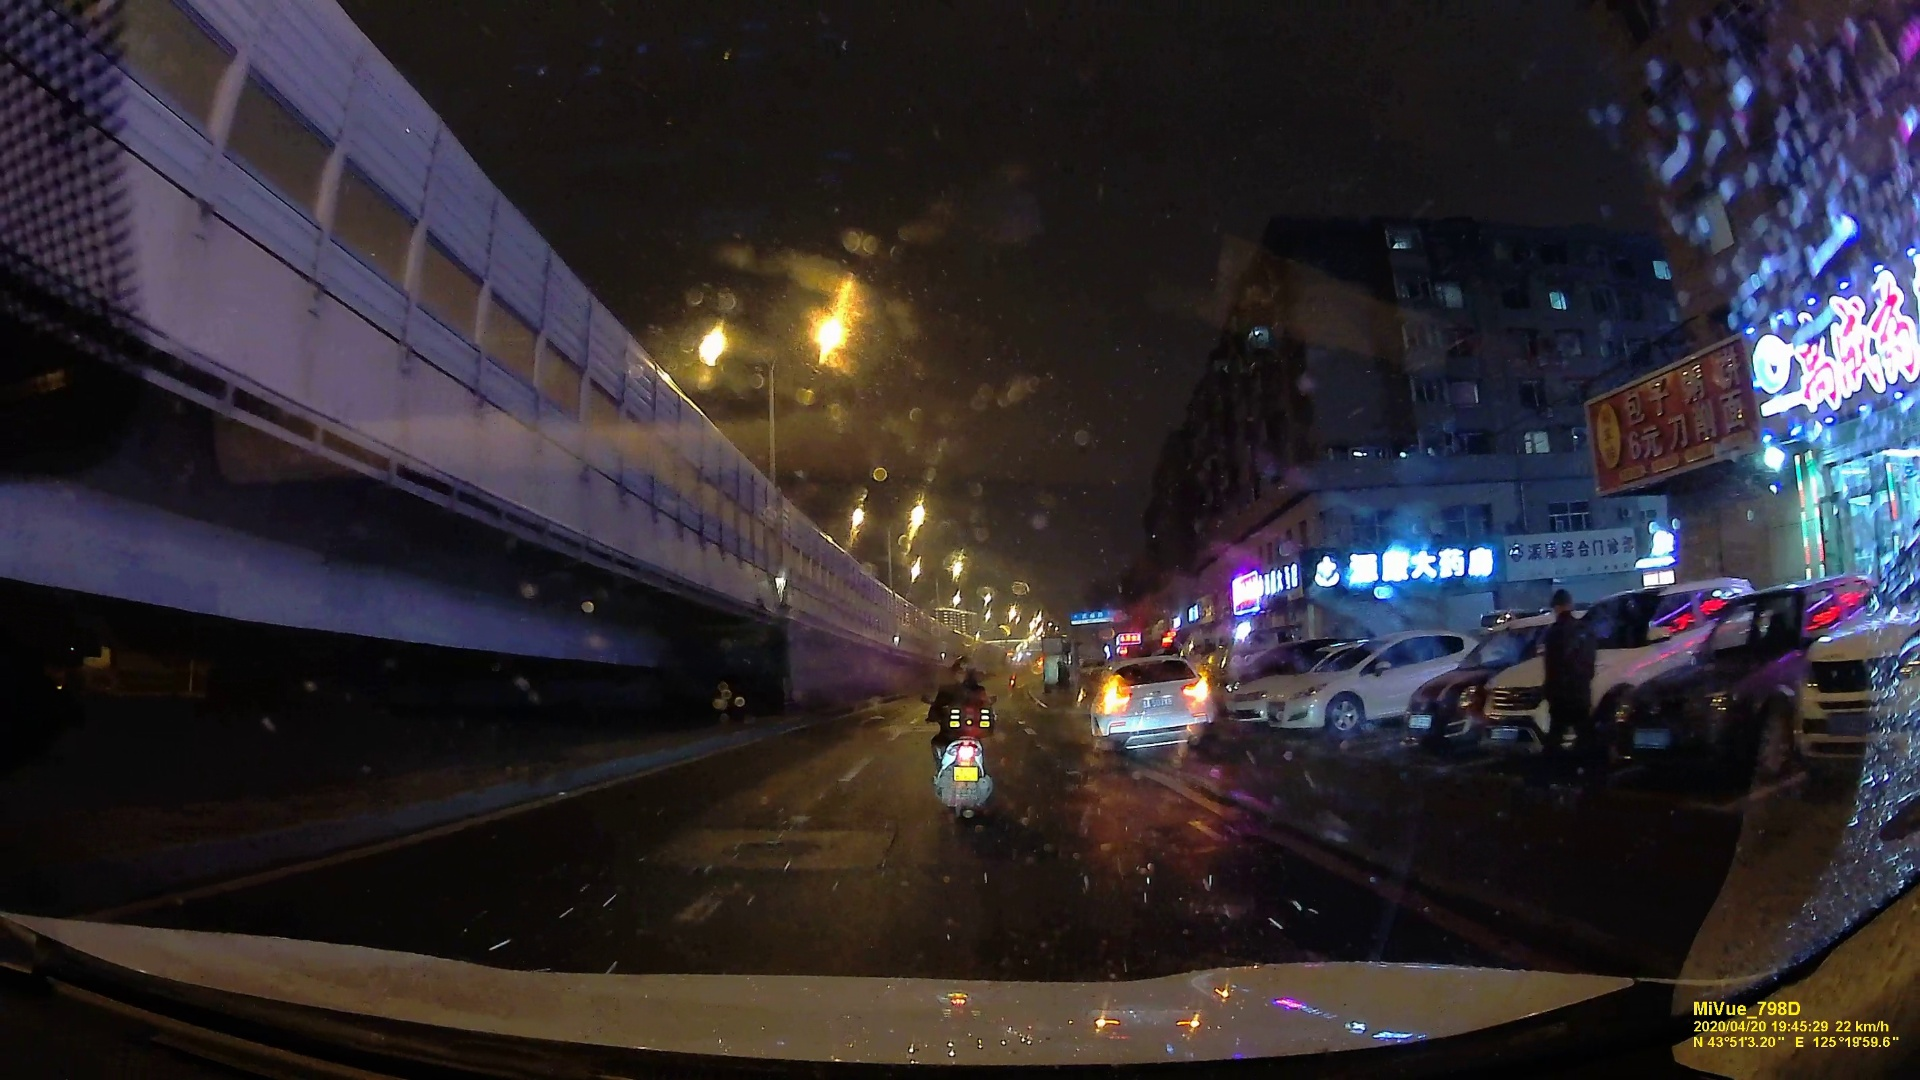person: (1531, 594, 1601, 784), (928, 660, 995, 746)
vehicle: (1084, 648, 1219, 759)
